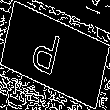P_S: (37, 25, 73, 85)
